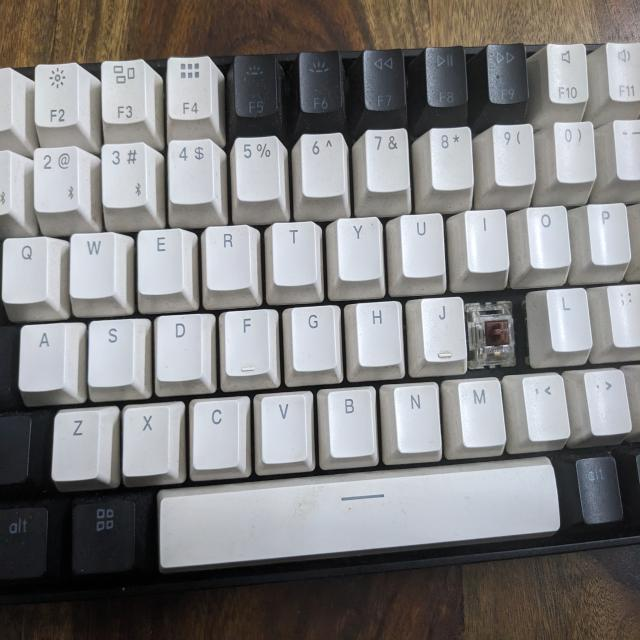key-switch: (468, 299, 529, 367)
